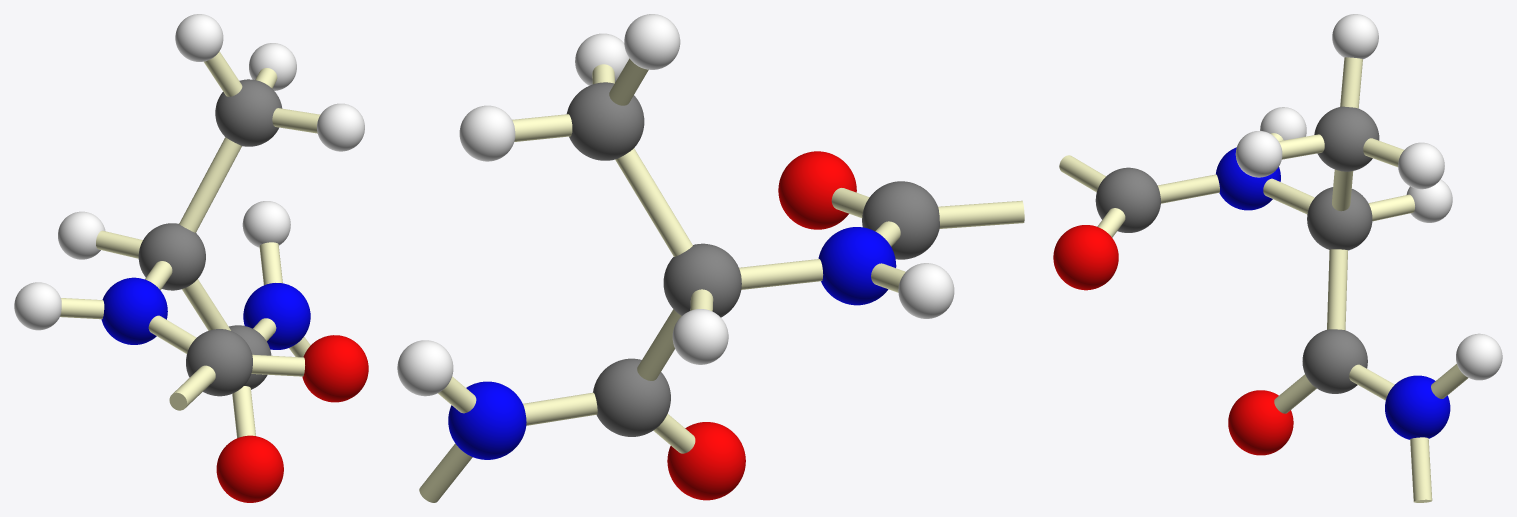
The model's file is conformation.gltf.
3 views of the same model, side by side, from view 1: azimuth 30°, elevation 25°; view 2: azimuth 150°, elevation 25°; view 3: azimuth 270°, elevation 25° (orthographic). The views are drawn at different scales.
Visible parts, largest first — view 1: ?????????6, ?????????2, ?????????3, ?????????9, ?????????1, ?????????4, ?????????13, ?????????22, ?????????10, ?????????7, ?????????12, ?????????14 (+14 smaller); view 2: ?????????5, ?????????6, ?????????13, ?????????2, ?????????9, ?????????3, ?????????4, ?????????1, ?????????22, ?????????8, ?????????7, ?????????11 (+13 smaller); view 3: ?????????2, ?????????6, ?????????13, ?????????5, ?????????1, ?????????9, ?????????4, ?????????3, ?????????11, ?????????14, ?????????12, ?????????10 (+15 smaller).
Part boxes in pixels (x1,y1,x2,y2): ?????????6: (216, 435, 283, 502); ?????????2: (302, 335, 368, 402); ?????????3: (101, 277, 167, 344); ?????????9: (215, 79, 282, 146); ?????????1: (186, 329, 252, 396); ?????????4: (138, 223, 205, 290); ?????????13: (243, 283, 310, 349); ?????????22: (179, 137, 241, 232); ?????????10: (175, 14, 223, 61); ?????????7: (14, 282, 61, 330); ?????????12: (317, 103, 364, 151); ?????????14: (242, 201, 290, 247); ?????????5: (593, 358, 670, 436); ?????????6: (667, 422, 745, 500); ?????????13: (448, 381, 526, 459); ?????????2: (778, 151, 856, 229); ?????????9: (566, 82, 644, 160); ?????????3: (818, 227, 896, 305); ?????????4: (663, 243, 741, 317); ?????????1: (862, 181, 939, 259); ?????????22: (615, 148, 692, 256); ?????????8: (672, 309, 728, 364); ?????????7: (898, 263, 954, 318); ?????????11: (459, 105, 515, 161); ?????????2: (1053, 225, 1118, 290); ?????????6: (1228, 390, 1293, 455); ?????????13: (1385, 375, 1450, 439); ?????????5: (1302, 329, 1367, 393); ?????????1: (1095, 167, 1160, 232); ?????????9: (1314, 106, 1379, 171); ?????????4: (1307, 187, 1372, 250); ?????????3: (1216, 147, 1280, 210); ?????????11: (1398, 142, 1444, 189); ?????????14: (1456, 333, 1502, 380); ?????????12: (1235, 131, 1282, 177); ?????????10: (1332, 14, 1378, 59).
Size of the model in its own units: 45.92 by 51.37 by 48.06.
